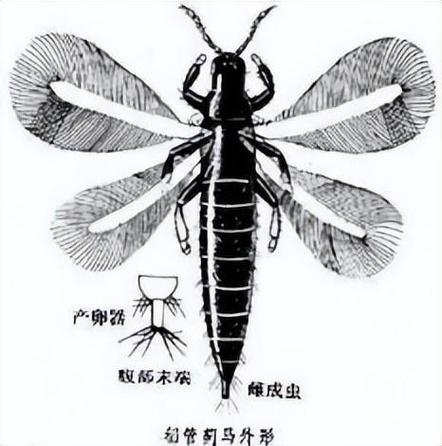Phlaeothripidae: (1, 1, 438, 414)
